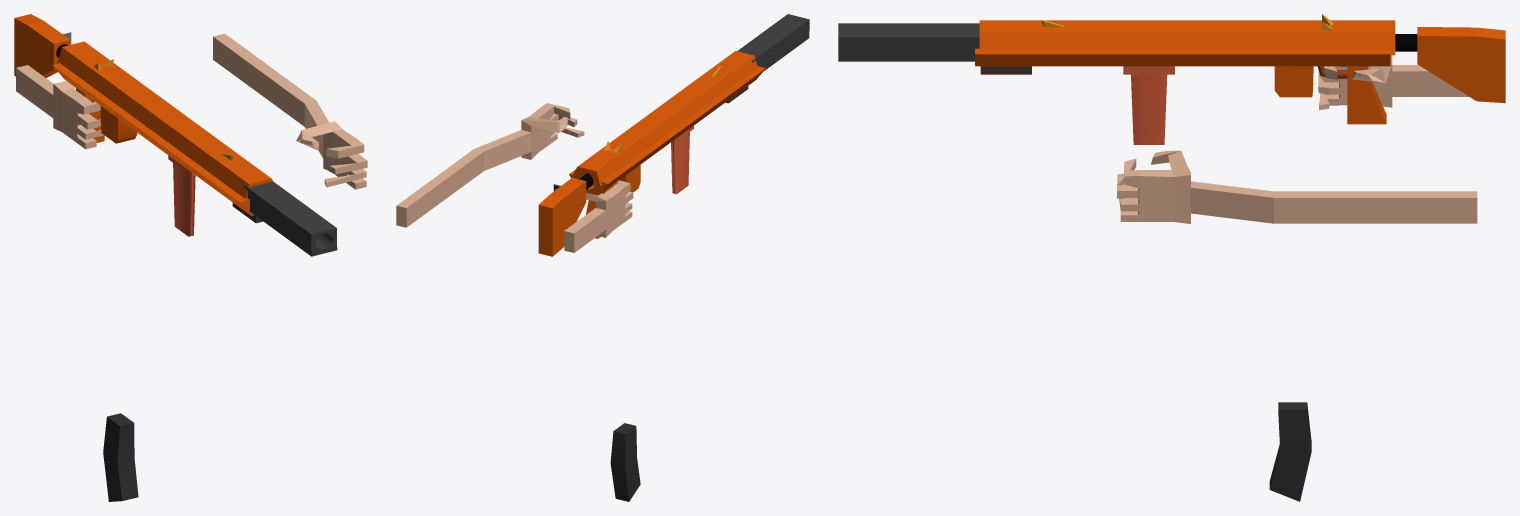
File: ar reload 4.fbx
The picture shows the model from 3 angles, left to right: view 1: azimuth 30°, elevation 25°; view 2: azimuth 150°, elevation 25°; view 3: azimuth 270°, elevation 25°; orthographic projection. The views are drawn at different scales.
Parts seen in each view (by area): view 1: Cube.011, Cube.013, Cube.005, Cube, Cube.008, Cube.004, Cube.009, Cube.012, Cube.010; view 2: Cube.013, Cube.011, Cube, Cube.009, Cube.005, Cube.008, Cube.004, Cube.012; view 3: Cube.013, Cube.011, Cube.008, Cube.009, Cube.005, Cube, Cube.004, Cube.012, Cube.002, Cube.010.
Boxes of the visible parts, x1,y1,x2,y2 form: Cube.011: (57,41,273,198); Cube.013: (213,33,367,189); Cube.005: (243,181,337,256); Cube: (16,65,103,149); Cube.008: (52,62,254,215); Cube.004: (103,413,138,501); Cube.009: (14,14,70,77); Cube.012: (168,155,195,236); Cube.010: (100,106,137,143); Cube.013: (396,103,584,227); Cube.011: (571,51,757,186); Cube: (564,180,633,252); Cube.009: (538,177,586,256); Cube.005: (737,14,809,71); Cube.008: (569,65,765,195); Cube.004: (610,423,640,501); Cube.012: (671,126,693,194); Cube.013: (1117,150,1477,223); Cube.011: (979,20,1395,55); Cube.008: (975,48,1390,66); Cube.009: (1417,27,1505,103); Cube.005: (838,23,979,61); Cube: (1318,55,1468,110); Cube.004: (1269,402,1311,501); Cube.012: (1123,66,1174,144); Cube.002: (1347,66,1386,124); Cube.010: (1274,66,1313,97).
Bounding box in the file's own units: 740 × 1444 × 1822.
11 materials, 1 textured.
